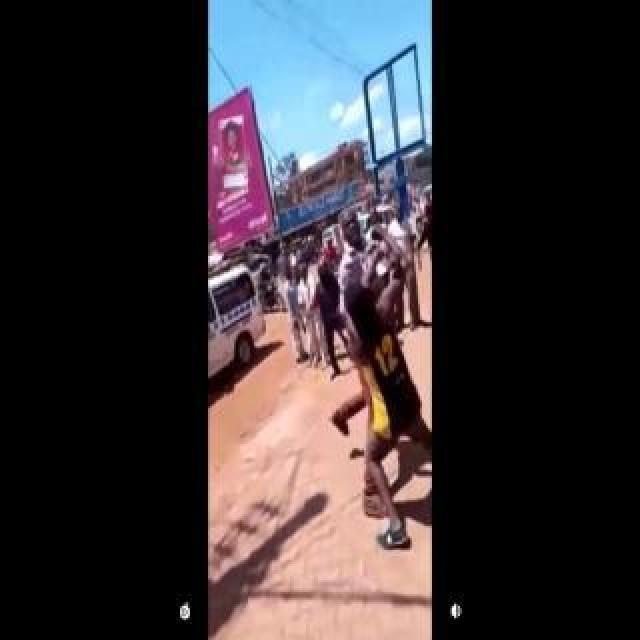fight: (318, 219, 442, 531)
